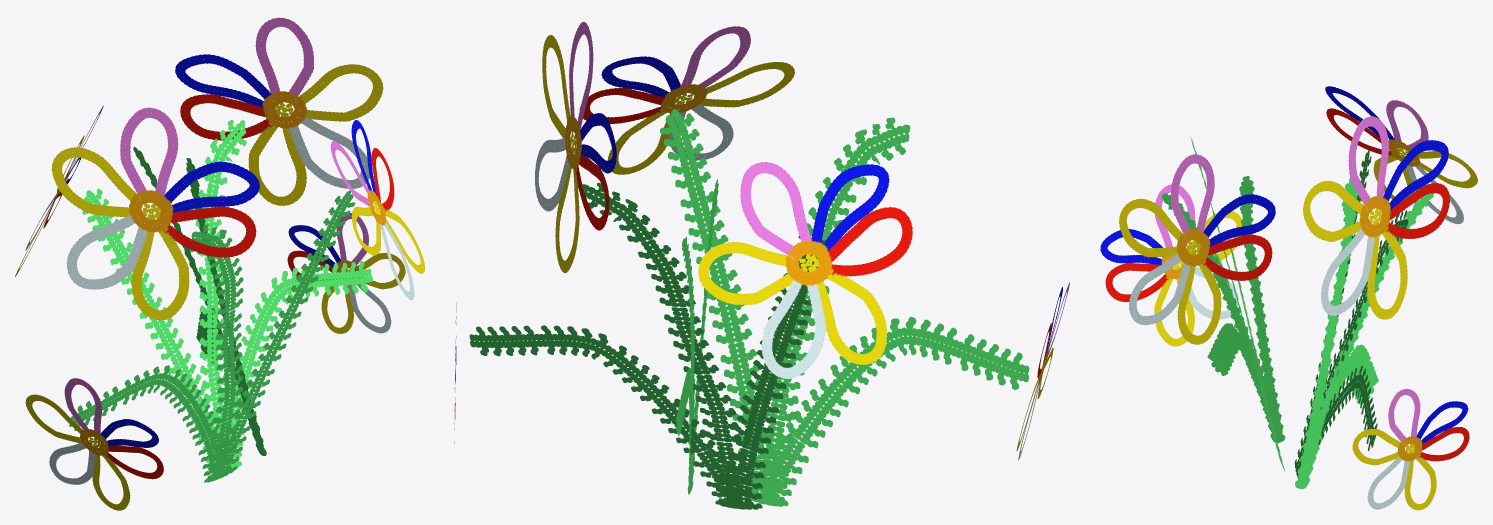
File: table-flowers.glb
3 renders of one model, left to right at view 1: azimuth 30°, elevation 25°; view 2: azimuth 150°, elevation 25°; view 3: azimuth 270°, elevation 25°, orthographic. The views are drawn at different scales.
Visible parts, largest first — view 1: table-flowers; view 2: table-flowers; view 3: table-flowers.
Boxes of the visible parts, bbox=[...] form: table-flowers: bbox=[15, 17, 424, 510]; table-flowers: bbox=[454, 21, 1069, 509]; table-flowers: bbox=[1100, 86, 1477, 510].
Bounding box in the file's own units: 2.04 × 1.87 × 1.55.
Materials: 1 (1 with a texture image).
